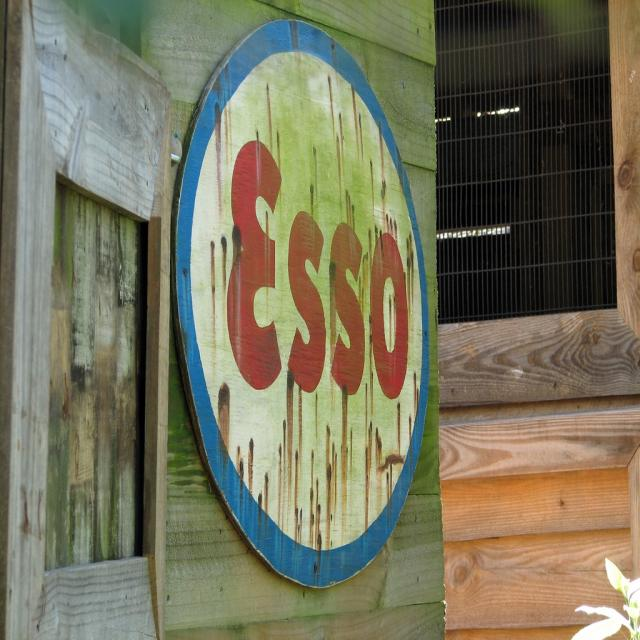esso: (168, 7, 436, 606)
